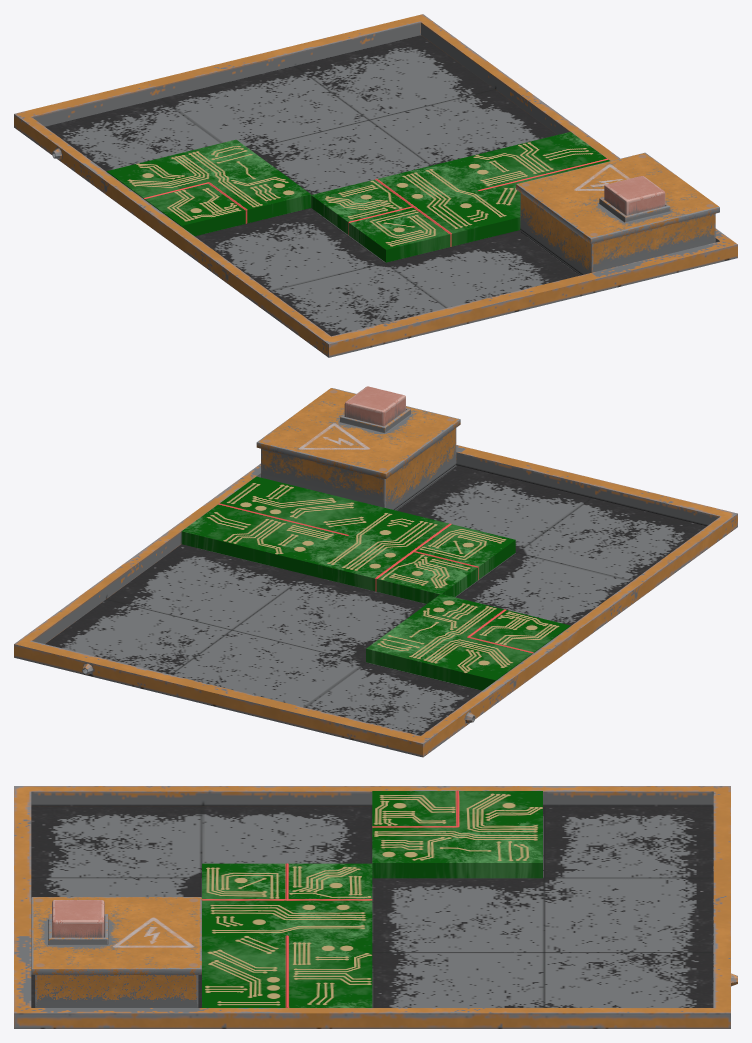
Rendered from Puzzle.fbx.
3 renders of one model, top to bottom at view 1: azimuth 30°, elevation 25°; view 2: azimuth 150°, elevation 25°; view 3: azimuth 270°, elevation 25°, orthographic. The views are drawn at different scales.
Parts seen in each view (by area): view 1: Installation1, BoiteElectricite, PieceCarrefour, PieceCoin, PieceDroite, Bouton; view 2: Installation1, BoiteElectricite, PieceCarrefour, PieceCoin, PieceDroite, Bouton; view 3: Installation1, BoiteElectricite, PieceCoin, PieceDroite, PieceCarrefour, Bouton.
Part boxes in pixels (left/top/right/bottom): Installation1: left=14, top=14, right=737, bottom=357; BoiteElectricite: left=516, top=152, right=719, bottom=275; PieceCarrefour: left=311, top=163, right=515, bottom=262; PieceCoin: left=106, top=139, right=311, bottom=236; PieceDroite: left=441, top=132, right=609, bottom=230; Bouton: left=604, top=176, right=665, bottom=215; Installation1: left=14, top=445, right=737, bottom=757; BoiteElectricite: left=256, top=388, right=460, bottom=510; PieceCarrefour: left=311, top=508, right=515, bottom=603; PieceCoin: left=366, top=594, right=570, bottom=690; PieceDroite: left=181, top=476, right=385, bottom=575; Bouton: left=344, top=386, right=405, bottom=426; Installation1: left=14, top=786, right=737, bottom=1028; BoiteElectricite: left=31, top=897, right=201, bottom=1007; PieceCoin: left=372, top=790, right=542, bottom=878; PieceDroite: left=202, top=935, right=372, bottom=1007; PieceCarrefour: left=202, top=863, right=372, bottom=935; Bouton: left=52, top=900, right=104, bottom=937.
Size of the model in its own units: 3.2 by 0.4991 by 4.25.
2 materials, 2 textured.
